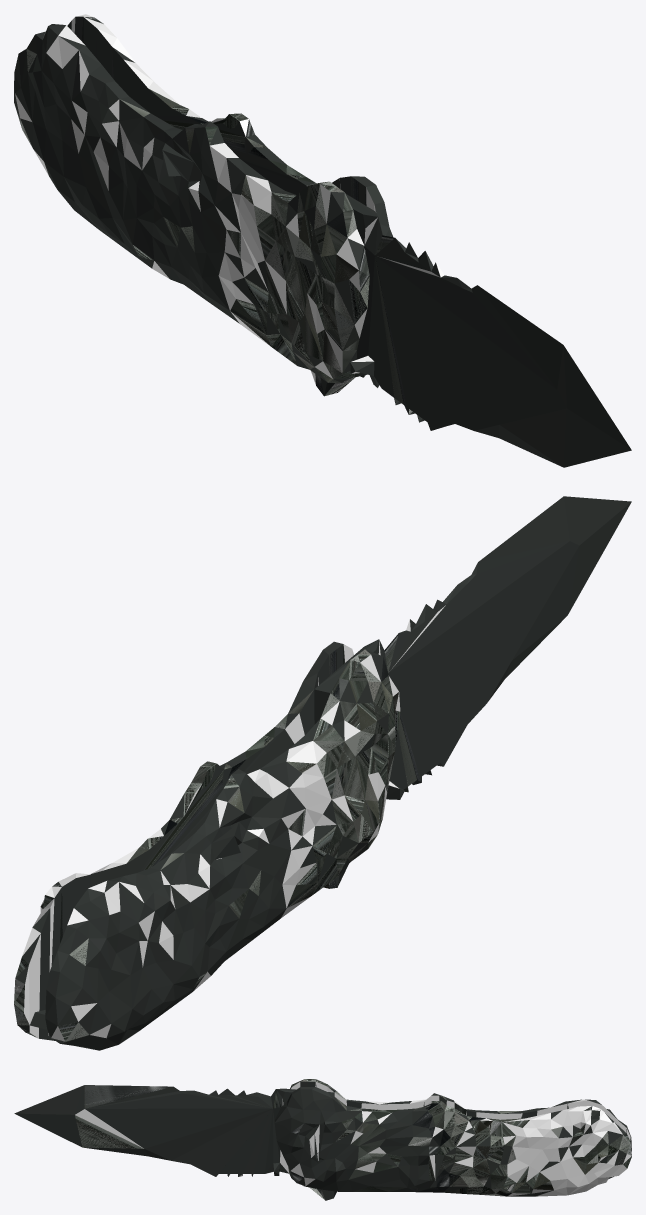
Rendered from model_align.obj.
3 views of the same model, one above another, from view 1: azimuth 30°, elevation 25°; view 2: azimuth 150°, elevation 25°; view 3: azimuth 270°, elevation 25° (orthographic). The views are drawn at different scales.
Size of the model in its own units: 0.0171 by 0.0423 by 0.2061.
4 materials, 4 textured.
